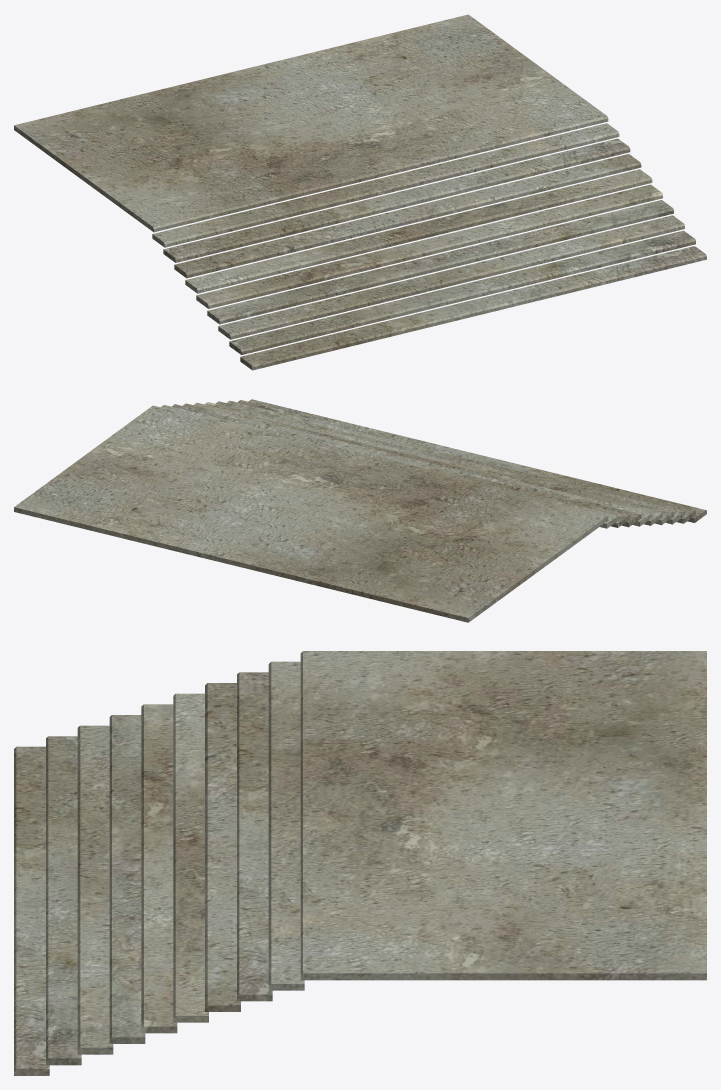
File: concrete_stairs.FBX
3 renders of one model, top to bottom at view 1: azimuth 30°, elevation 25°; view 2: azimuth 150°, elevation 25°; view 3: azimuth 270°, elevation 25°, orthographic. The views are drawn at different scales.
Parts seen in each view (by area): view 1: Box002; view 2: Box002; view 3: Box002.
Part boxes in pixels (x1,y1,x2,y2): Box002: (14, 14, 706, 370); Box002: (14, 399, 706, 622); Box002: (14, 651, 706, 1075).
Bounding box in the file's own units: 329 × 48.84 × 299.
